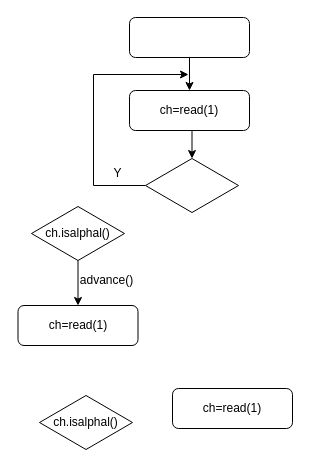
Some shapes in this 310 by 467 pixel diagram are drawn without their labels. Each missing label, with the centre of its shape:
ch==' ': (191,185)
Start: (189,37)
